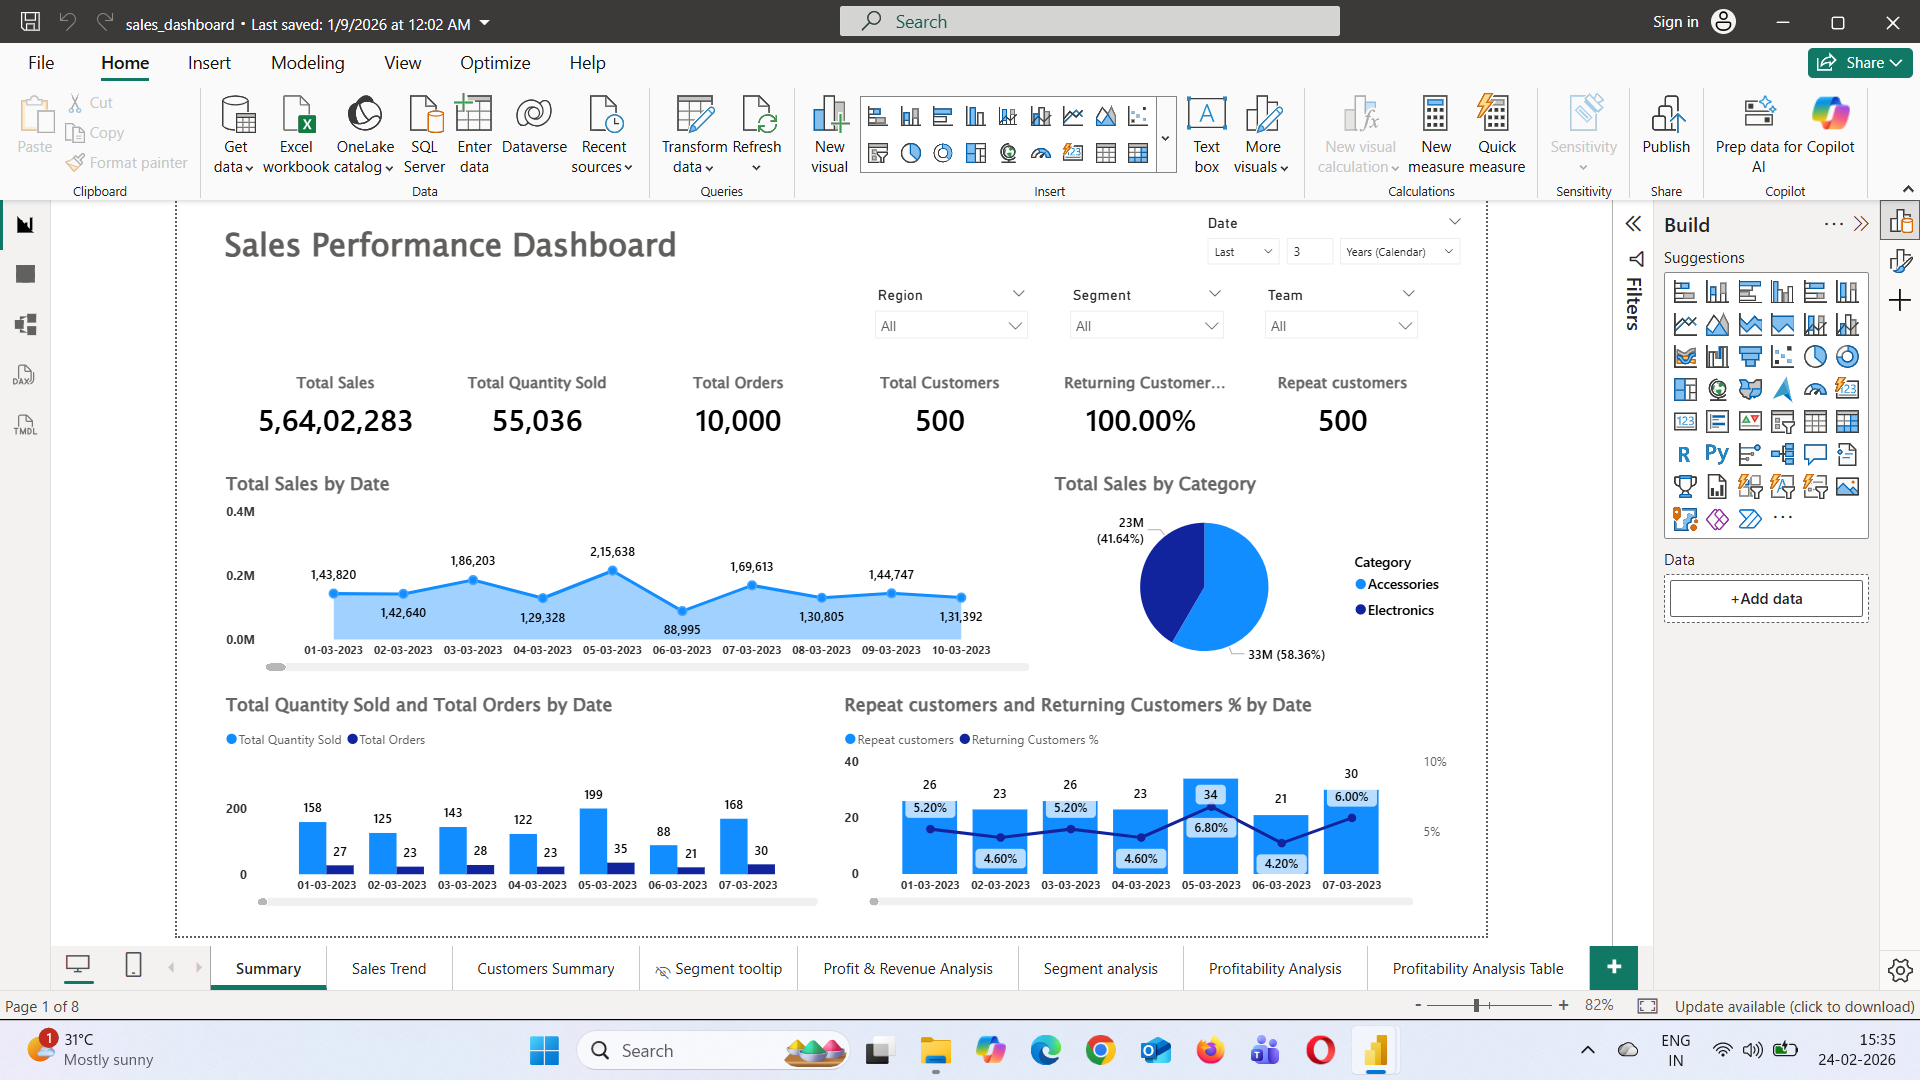

What the dashboard file says about the page in this screenshot:
{"tool":"powerbi","page":{"name":"Summary","canvas":[1280,720],"ordinal":0},"visuals":[{"type":"cardVisual","fields":{"Data":["_All Measures.Total Sales","_All Measures.Total Quantity Sold","_All Measures.Total Orders","_All Measures.Total Customers","_All Measures.Returning Customers","_All Measures.Repeat customers"]},"box":[42.8,148,1210.6,106.4],"z":0},{"type":"areaChart","fields":{"Category":["Calendar.Date"],"Y":["_All Measures.Total Sales"]},"box":[43.3,264,799.3,202],"z":1000},{"type":"slicer","fields":{"Values":["Calendar.Date"]},"box":[995.4,8.6,273.9,58.7],"z":2000},{"type":"lineStackedColumnComboChart","fields":{"Category":["Calendar.Date"],"Y":["_All Measures.Repeat customers"],"Y2":["_All Measures.Returning Customers %"]},"box":[647.8,480.4,601.6,215],"z":3000},{"type":"clusteredColumnChart","fields":{"Category":["Calendar.Date"],"Y":["_All Measures.Total Quantity Sold","_All Measures.Total Orders"]},"box":[42.8,480.6,589.4,215.2],"z":4000},{"type":"slicer","fields":{"Values":["SalesData.Region"]},"box":[672.6,79.5,170,61.1],"z":5000},{"type":"slicer","fields":{"Values":["SalesData.Segment"]},"box":[863.3,79.5,171.2,61.1],"z":6000},{"type":"slicer","fields":{"Values":["SalesData.Team"]},"box":[1054.1,79.5,170,61.1],"z":7000},{"type":"actionButton","box":[42.8,17.1,516,40.4],"z":8000},{"type":"pieChart","fields":{"Y":["_All Measures.Total Sales"],"Category":["SalesData.Category"]},"box":[854.1,264,395.3,202],"z":9000}]}

Visuals, with their boxes on the page's 1280x720 design canvas (x1, y1, x2, y2). These are canvas units, not pixel positions in the 1920x1080 screenshot, which may show the page scaled, cropped or inside an application window:
cardVisual - _All Measures.Total Sales x _All Measures.Total Quantity Sold: 43:148:1253:254
areaChart - Calendar.Date x _All Measures.Total Sales: 43:264:843:466
slicer - Calendar.Date: 995:9:1269:67
lineStackedColumnComboChart - Calendar.Date x _All Measures.Repeat customers: 648:480:1249:695
clusteredColumnChart - Calendar.Date x _All Measures.Total Quantity Sold: 43:481:632:696
slicer - SalesData.Region: 673:80:843:141
slicer - SalesData.Segment: 863:80:1034:141
slicer - SalesData.Team: 1054:80:1224:141
actionButton: 43:17:559:58
pieChart - _All Measures.Total Sales x SalesData.Category: 854:264:1249:466
